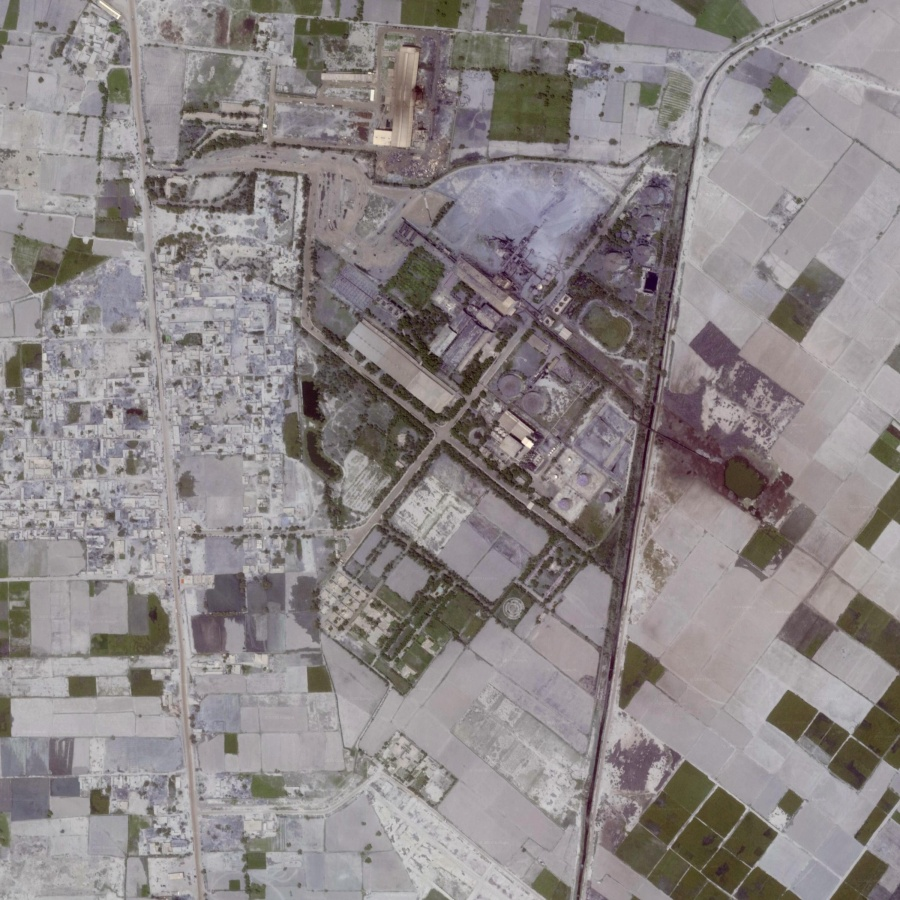PowerPlant: (444, 301, 634, 519)
